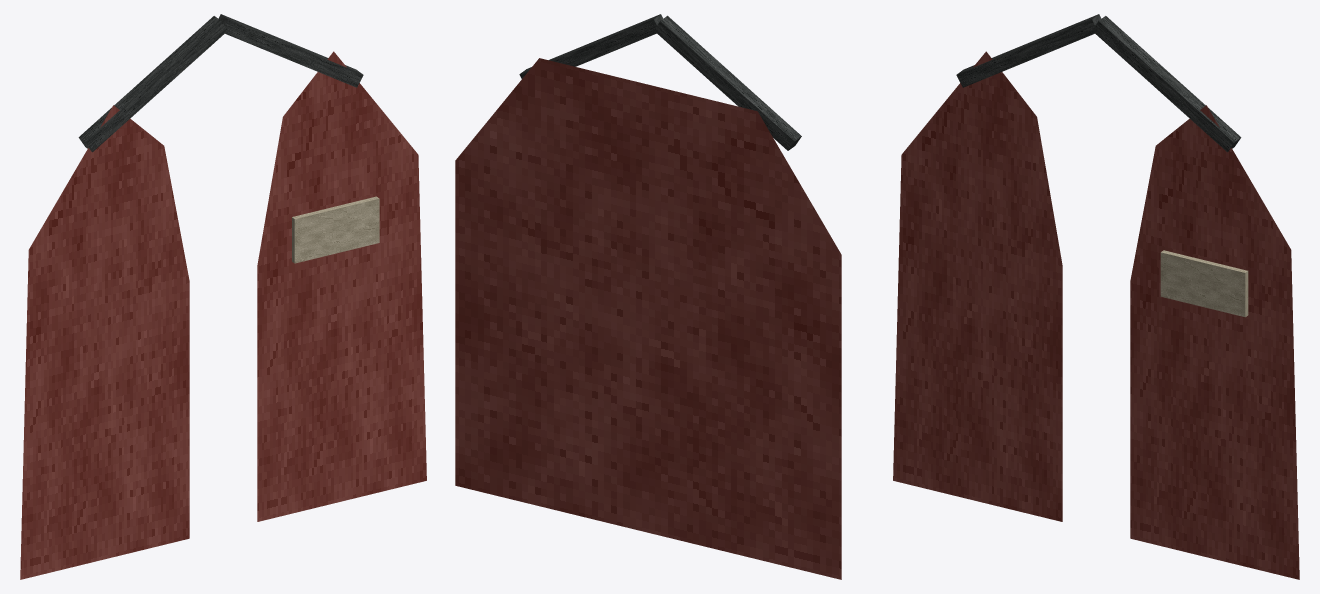
The model's file is vest.glb.
3 renders of one model, left to right at view 1: azimuth 30°, elevation 25°; view 2: azimuth 150°, elevation 25°; view 3: azimuth 330°, elevation 25°, orthographic.
Parts seen in each view (by area): view 1: Body; view 2: Body; view 3: Body.
Part boxes in pixels (x1=…): Body: x1=20, y1=14, x2=426, y2=579; Body: x1=455, y1=14, x2=841, y2=579; Body: x1=893, y1=14, x2=1299, y2=579.
Size of the model in its own units: 0.48 by 0.5764 by 0.037.
Materials: 1 (1 with a texture image).
